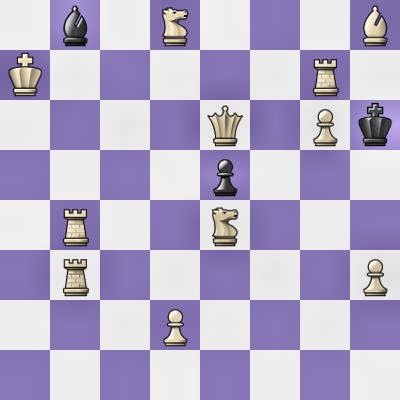black-bishop: (50, 0, 100, 50)
black-king: (350, 100, 400, 150)
black-pawn: (200, 150, 250, 200)
white-bishop: (350, 0, 400, 50)
white-king: (0, 50, 50, 100)
white-knight: (150, 0, 200, 50), (200, 200, 250, 250)
white-pawn: (300, 100, 350, 150), (350, 250, 400, 300), (150, 300, 200, 350)
white-queen: (200, 100, 250, 150)
white-rook: (300, 50, 350, 100), (50, 200, 100, 250), (50, 250, 100, 300)
